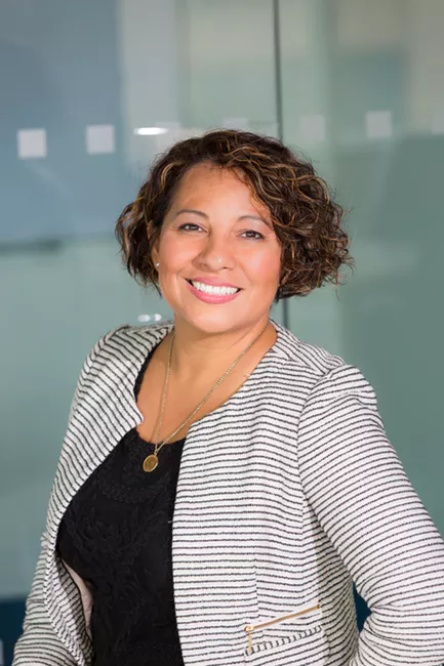face: (159, 164, 278, 334)
